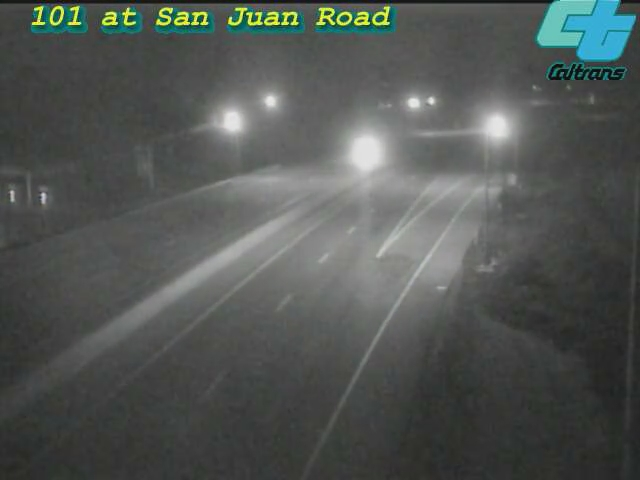vehicle: (337, 127, 387, 177), (466, 103, 516, 153)
